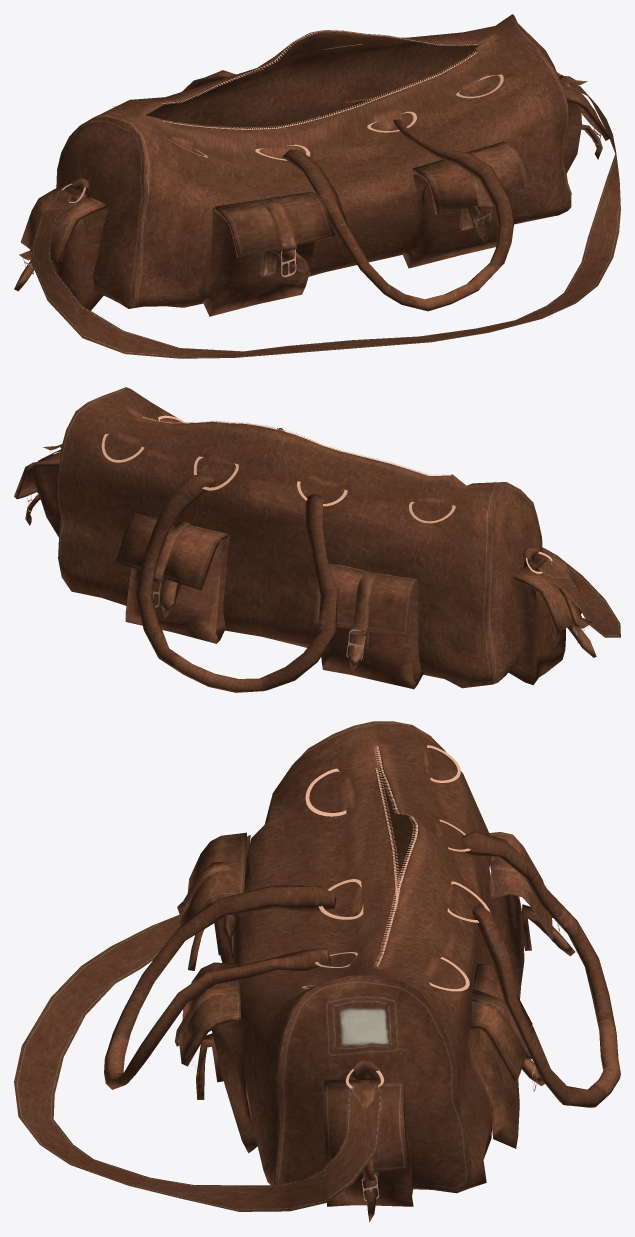
3 views of the same model, one above another, from view 1: azimuth 30°, elevation 25°; view 2: azimuth 150°, elevation 25°; view 3: azimuth 270°, elevation 25° (orthographic). The views are drawn at different scales.
Visible parts, largest first — view 1: BOLSA2.applied.004_0, Plane.041_1; view 2: BOLSA2.applied.004_0, Plane.041_1; view 3: BOLSA2.applied.004_0, Plane.041_1.
Part boxes in pixels (x1,y1,x2,y2): BOLSA2.applied.004_0: (14,14,620,358); Plane.041_1: (23,44,600,277); BOLSA2.applied.004_0: (14,387,620,692); Plane.041_1: (27,415,584,660); BOLSA2.applied.004_0: (14,721,620,1222); Plane.041_1: (191,745,561,1201).
Bounding box in the file's own units: 1.23 × 0.4119 × 0.8634.
Materials: 2 (2 with a texture image).
